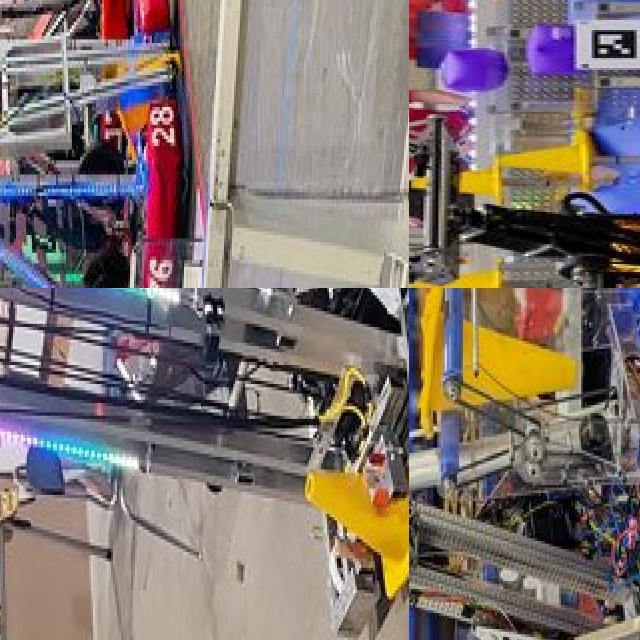FRC-Robots: (0, 288, 409, 640), (409, 288, 640, 640), (0, 0, 197, 288), (409, 92, 640, 288), (20, 0, 132, 39)
